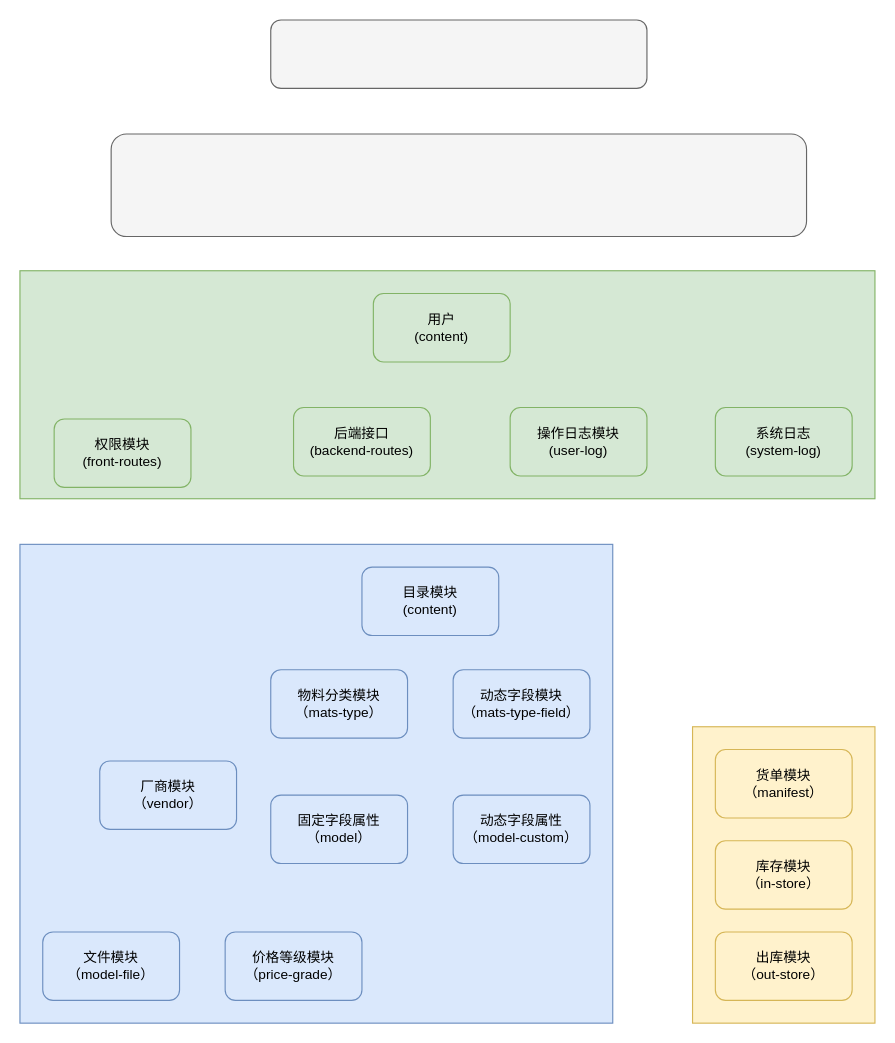
This 895x1043 diagram has some shape labels left out. The centre of each missing label's shape, as x and y in pixels:
"web" goes at point (458, 53).
"缓存" goes at point (458, 185).
